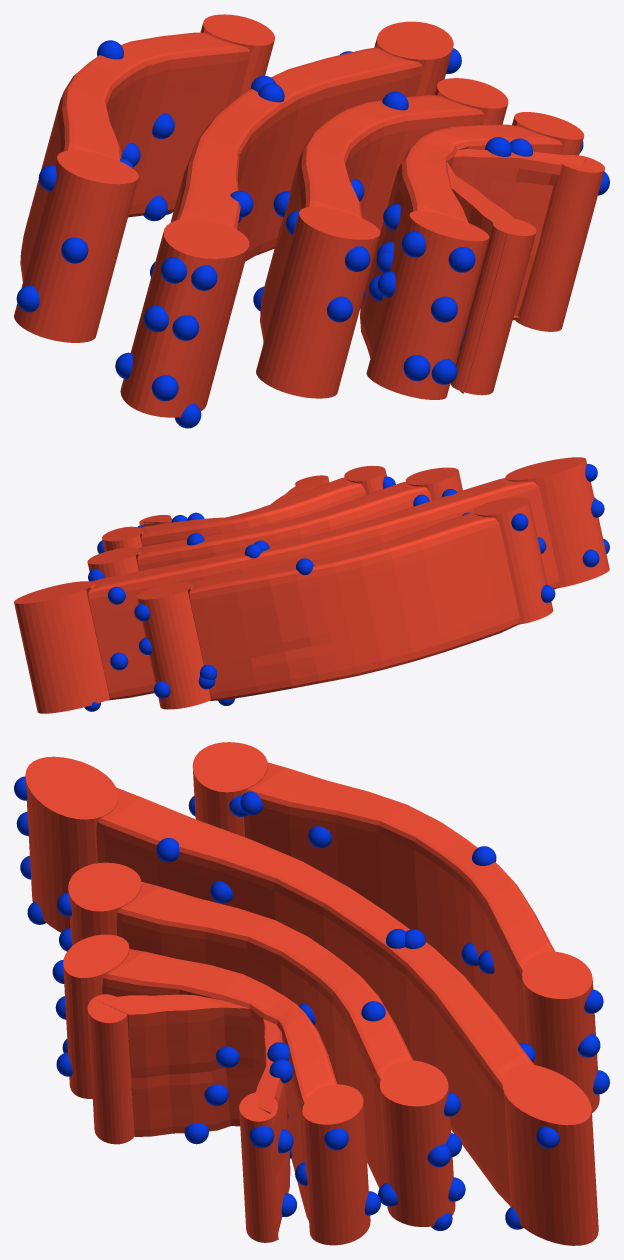
The model's file is golgi.fbx.
3 renders of one model, top to bottom at view 1: azimuth 30°, elevation 25°; view 2: azimuth 150°, elevation 25°; view 3: azimuth 270°, elevation 25°, orthographic. The views are drawn at different scales.
Parts seen in each view (by area): view 1: golgi.001; view 2: golgi.001; view 3: golgi.001.
Part boxes in pixels (x1,y1,x2,y2): golgi.001: (14, 14, 609, 428); golgi.001: (14, 457, 609, 713); golgi.001: (14, 742, 609, 1245).
Size of the model in its own units: 3210 by 1472 by 2931.
